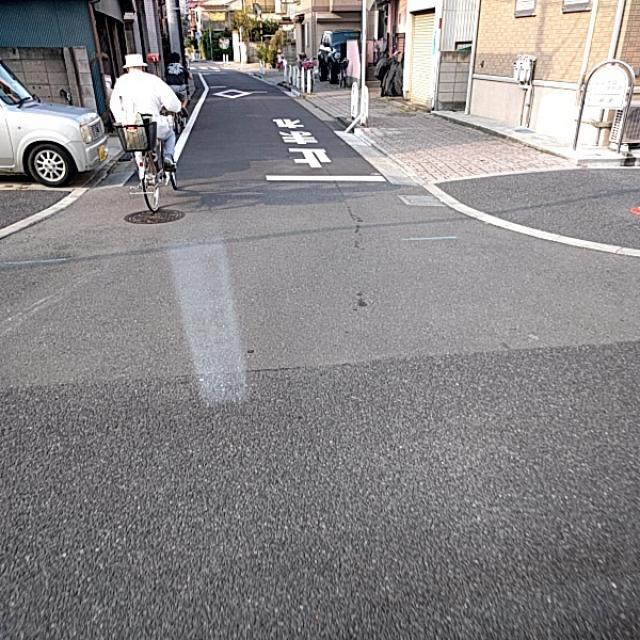pothole: (331, 200, 378, 280)
